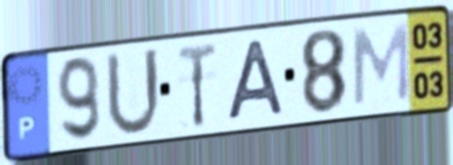8: (298, 25, 352, 118)
9: (53, 54, 104, 145)
A: (224, 37, 288, 125)
M: (350, 20, 412, 109)
T: (175, 39, 219, 132)
U: (103, 45, 164, 141)
